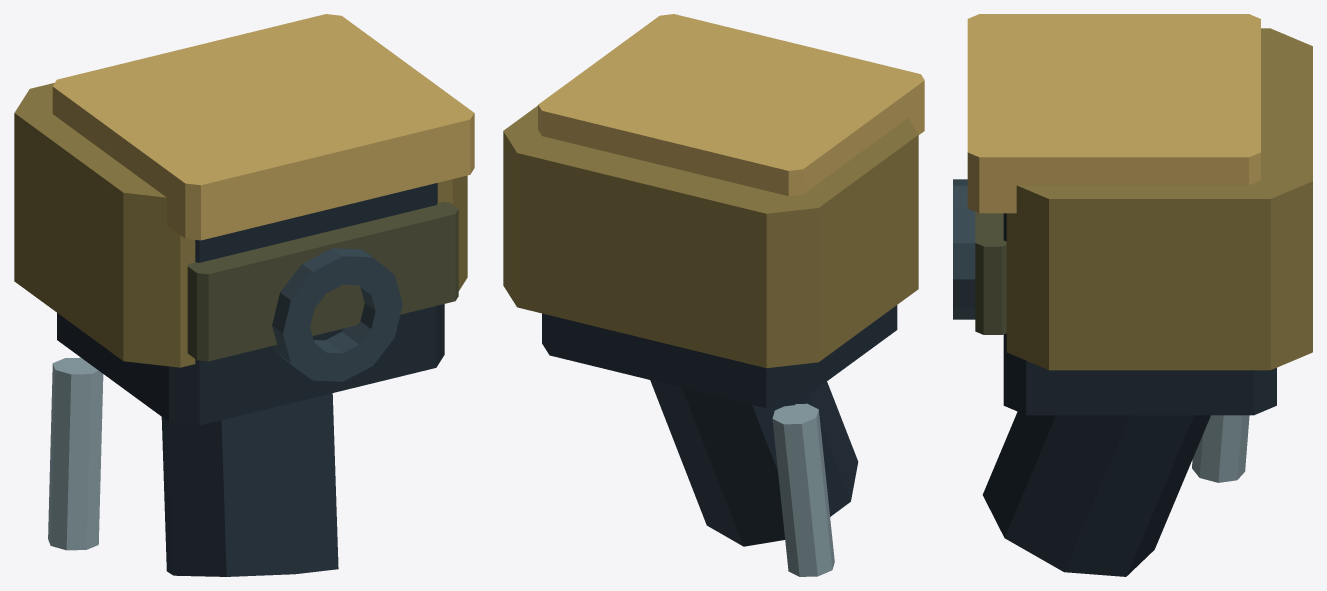
File: enemy_gunner_upper_arm_l.obj
3 views of the same model, side by side, from view 1: azimuth 30°, elevation 25°; view 2: azimuth 150°, elevation 25°; view 3: azimuth 270°, elevation 25° (orthographic). The views are drawn at different scales.
Size of the model in its own units: 0.62 by 0.8144 by 0.5525.
